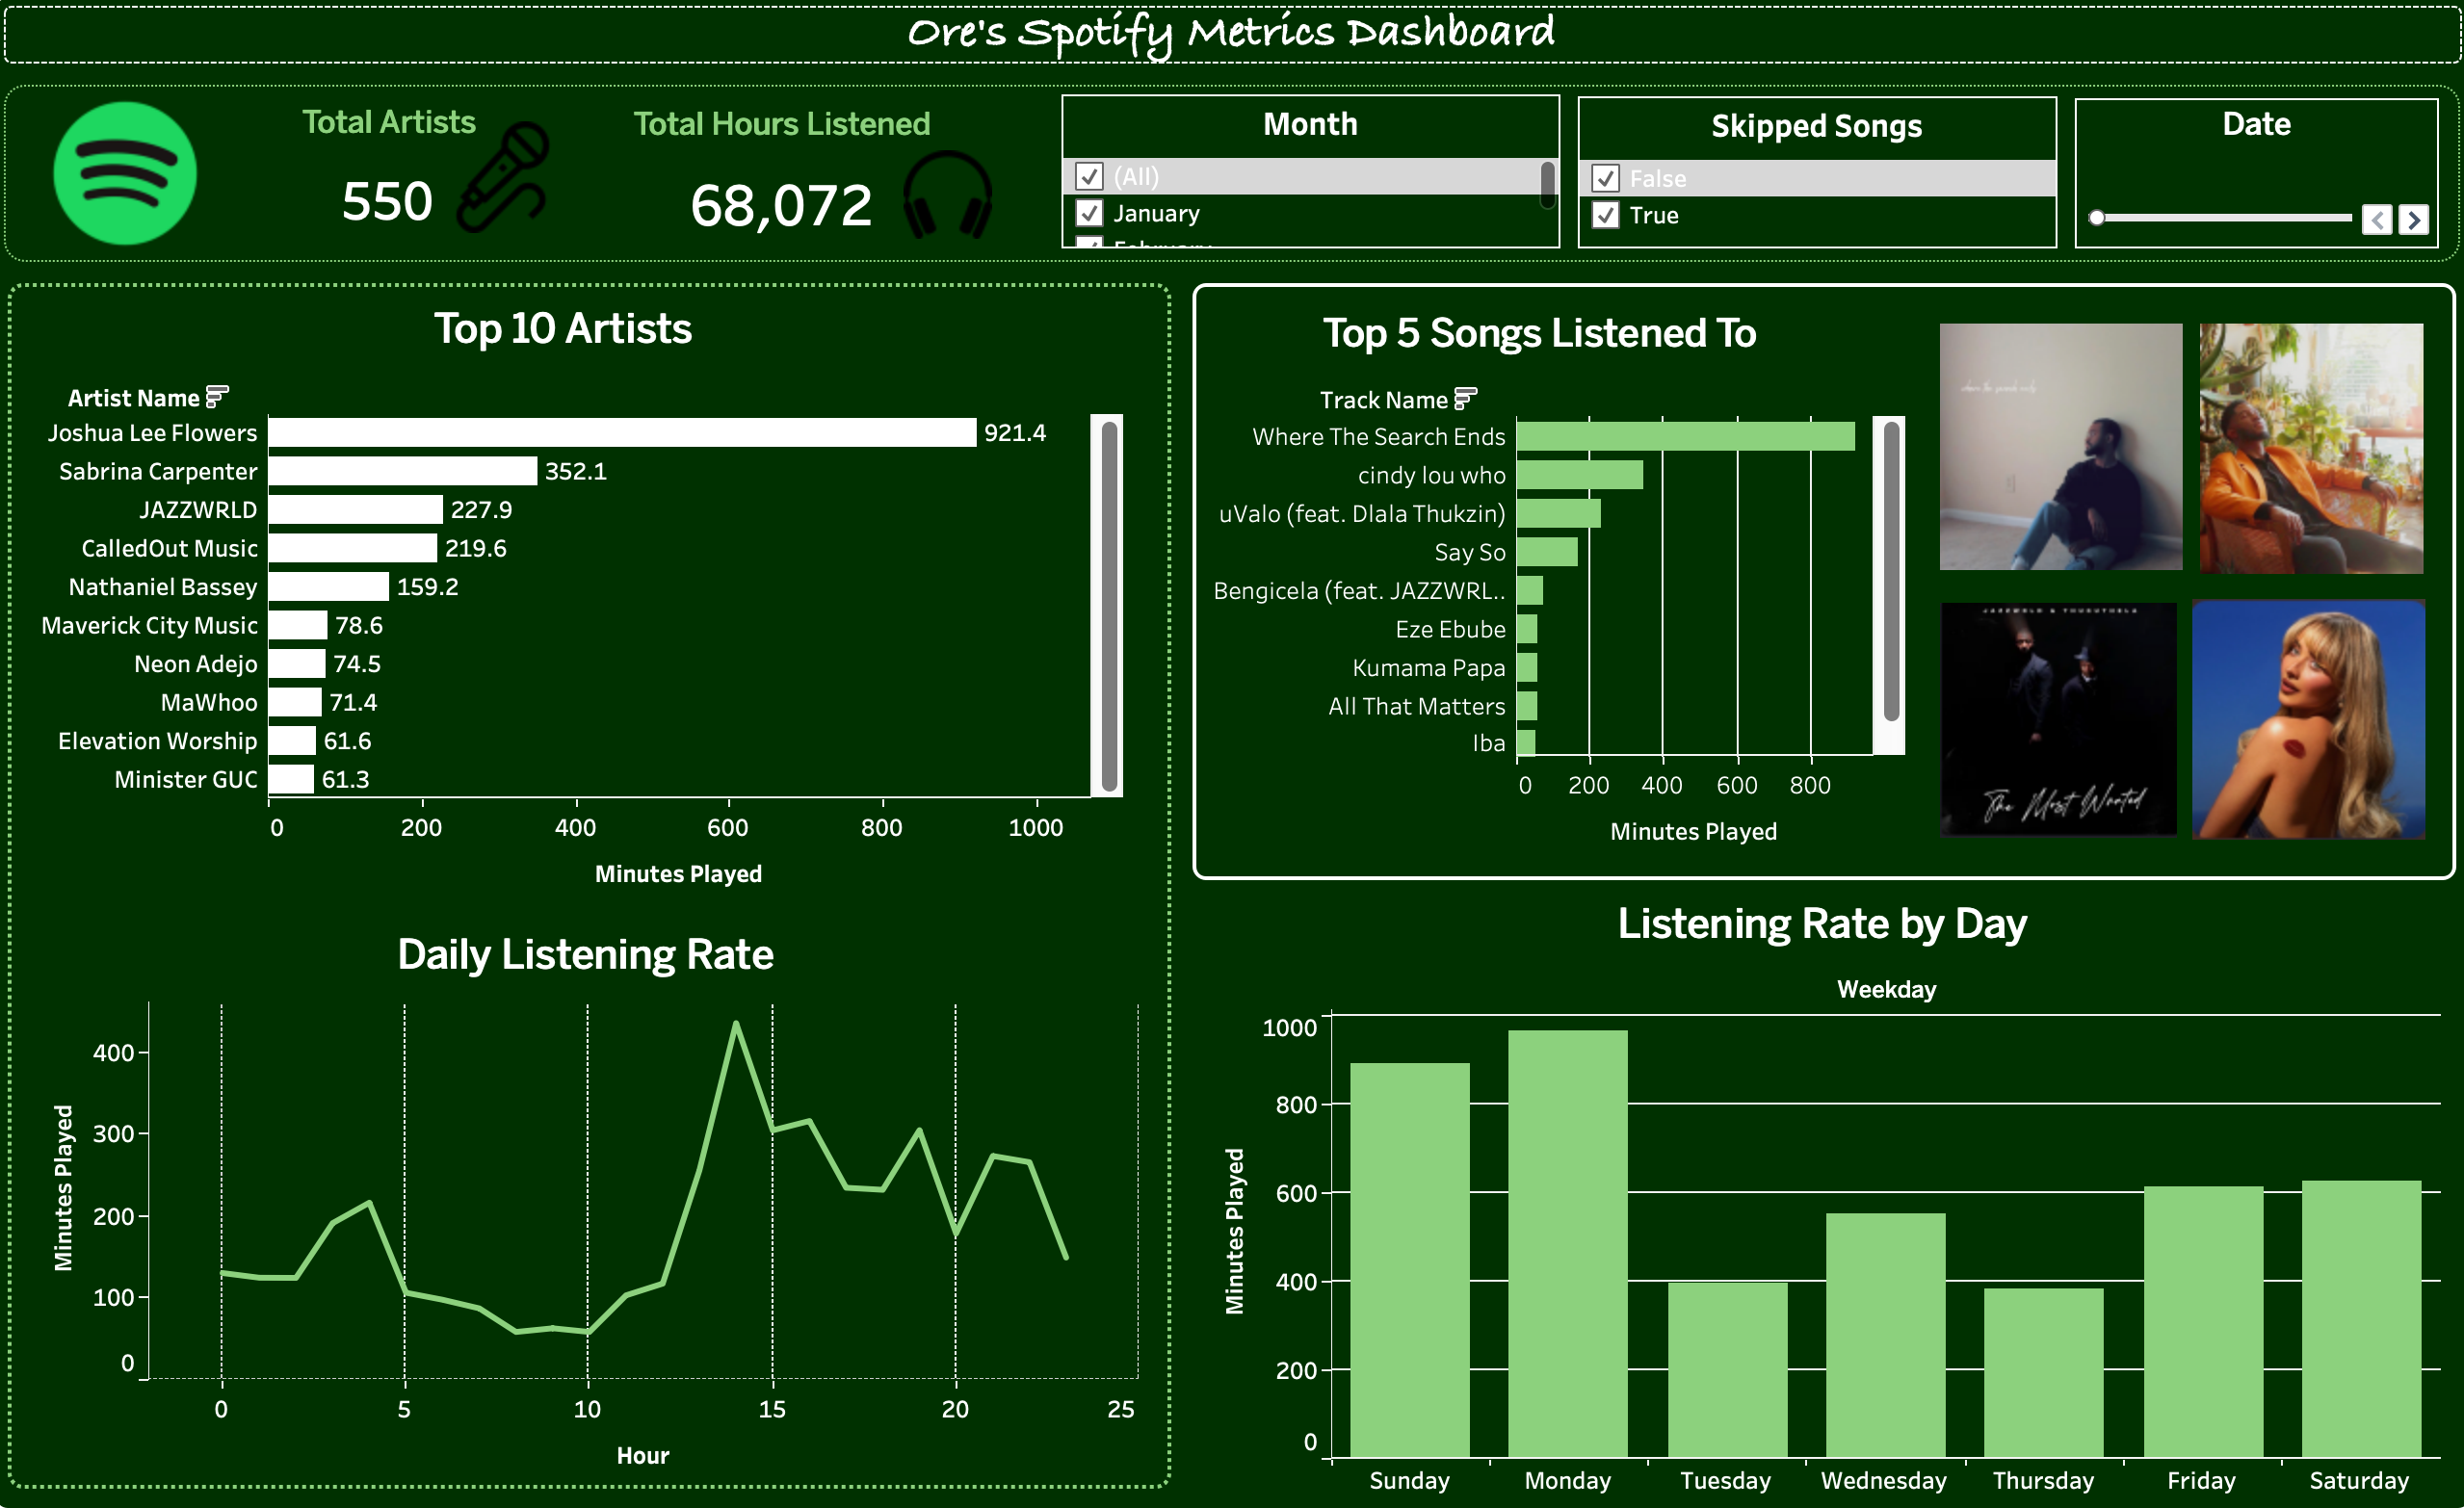

The dashboard page shown, as its layout file describes it:
{"tool":"tableau","page":{"name":"Dashboard 1","canvas":[1300,800],"ordinal":0},"visuals":[{"type":"title","box":[8,8,1284,38]},{"type":"blank","box":[12,53,1275,92]},{"type":"image","param":"/Users/oreakinsanya/Downloads/spotify-icon-marilyn-scott-0.png","box":[33.8,58,113.1,82]},{"type":"filter","title":"artiststop10","param":"[federated.1jsziyk01c04md19cwnj01wi5ln1].[none:month:nk]","box":[561,58,259,80]},{"type":"worksheet","title":"TotalArtists","mark":"Automatic","box":[114,59,196,81]},{"type":"filter","title":"artiststop10","param":"[federated.1jsziyk01c04md19cwnj01wi5ln1].[none:skipped_songs:nk]","box":[829,59,249,79]},{"type":"worksheet","title":"total hours listened","mark":"Automatic","box":[293,60,246,78]},{"type":"filter","title":"TotalArtists","param":"[federated.1jsziyk01c04md19cwnj01wi5ln1].[md:date:ok]","box":[1087,60,189,78]},{"type":"image","param":"/Users/oreakinsanya/Downloads/microphone.png","box":[242,72,61,58]},{"type":"image","param":"/Users/oreakinsanya/Downloads/headphone.png","box":[479,87,72,46]},{"type":"blank","box":[14,156,604,626]},{"type":"blank","box":[629,156,656,310]},{"type":"worksheet","title":"artiststop10","mark":"Automatic","rows":["artistName"],"cols":["minutes_played"],"box":[29,163,564,315]},{"type":"worksheet","title":"top5tracks ","mark":"Automatic","rows":["trackName"],"cols":["minutes_played"],"box":[637,166,362,290]},{"type":"image","param":"/Users/oreakinsanya/Downloads/IMG_4292 2.jpg","box":[1017,177,127,128]},{"type":"image","param":"/Users/oreakinsanya/Downloads/Screenshot 2026-04-13 at 11.15.28 PM.png","box":[1152,177,122,130]},{"type":"image","param":"/Users/oreakinsanya/Downloads/IMG_4293 2.jpg","box":[1148,320,122,125]},{"type":"image","param":"/Users/oreakinsanya/Downloads/IMG_4294 2.jpg","box":[1017,322,123,123]},{"type":"worksheet","title":"weeklylisteningRate","mark":"Automatic","rows":["minutes_played"],"cols":["weekday"],"box":[635,472,642,315]},{"type":"worksheet","title":"dailylisteningRate","mark":"Automatic","rows":["minutes_played"],"cols":["hour"],"box":[27,488,574,292]}]}

Visuals, with their boxes in screenshot pixels (x1, y1, x2, y2), scaled from the page's 1300x800 canvas onto the 2464x1508 screenshot:
title: box=[15, 15, 2449, 87]
blank: box=[23, 100, 2439, 273]
image: box=[65, 110, 278, 264]
"artiststop10" filter: box=[1063, 110, 1555, 260]
"TotalArtists" worksheet: box=[216, 111, 588, 264]
"artiststop10" filter: box=[1571, 111, 2043, 260]
"total hours listened" worksheet: box=[556, 113, 1022, 260]
"TotalArtists" filter: box=[2060, 113, 2419, 260]
image: box=[459, 136, 574, 245]
image: box=[908, 164, 1044, 250]
blank: box=[27, 294, 1171, 1474]
blank: box=[1193, 294, 2435, 878]
"artiststop10" worksheet: box=[55, 307, 1124, 901]
"top5tracks " worksheet: box=[1207, 313, 1894, 860]
image: box=[1927, 333, 2168, 575]
image: box=[2184, 333, 2415, 579]
image: box=[2176, 603, 2407, 839]
image: box=[1927, 607, 2161, 839]
"weeklylisteningRate" worksheet: box=[1203, 890, 2421, 1484]
"dailylisteningRate" worksheet: box=[51, 920, 1140, 1470]
